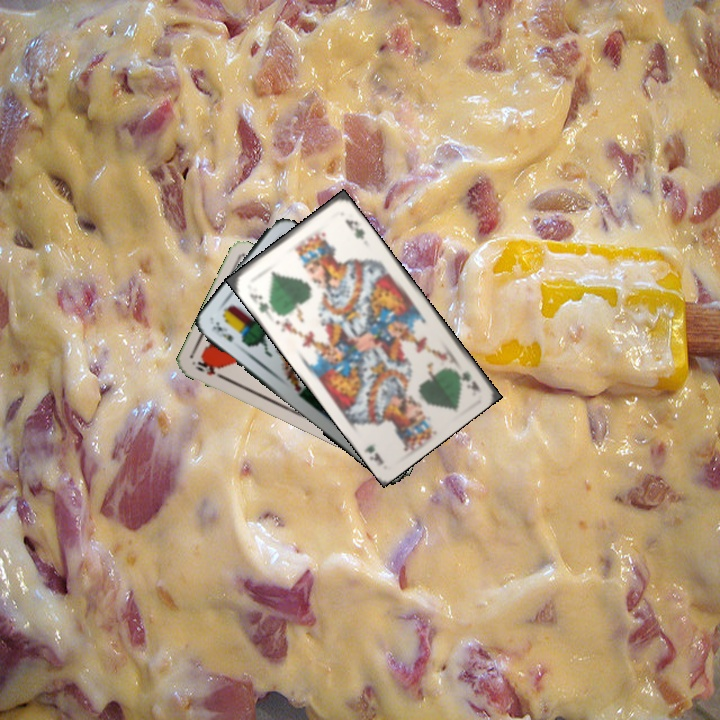EK: (208, 319, 236, 345)
GK: (450, 364, 482, 394), (245, 289, 275, 318)
HO: (192, 357, 229, 382)
